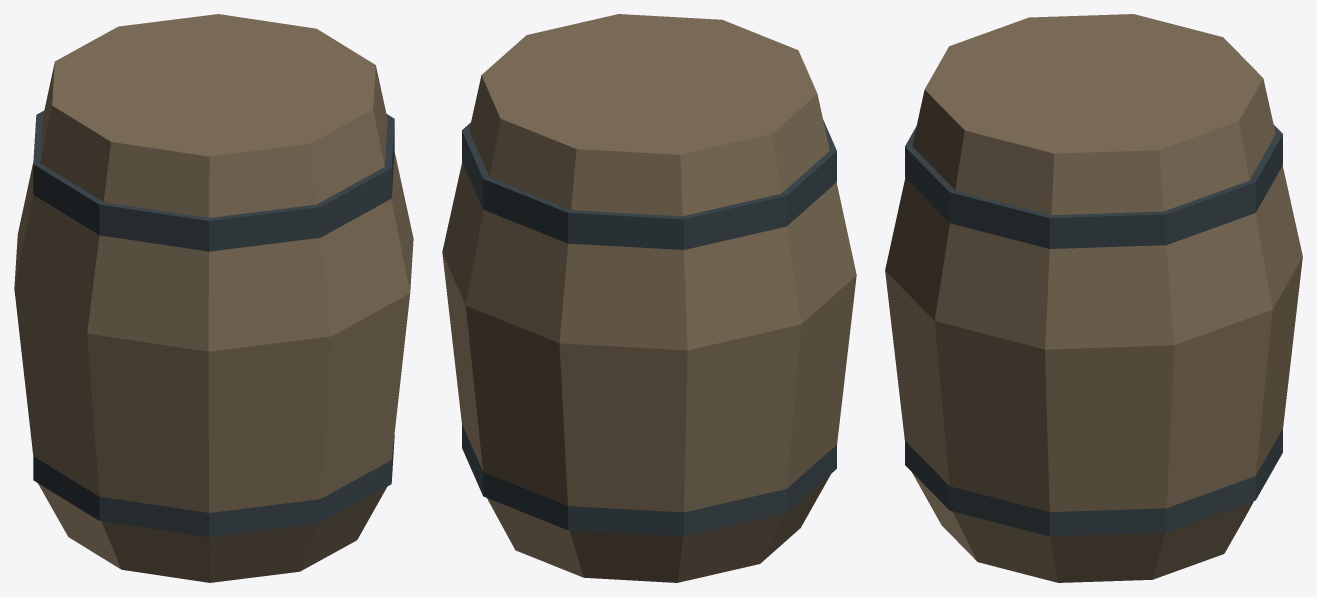
Rendered from PRP_02_Barrel.glb.
3 views of the same model, side by side, from view 1: azimuth 30°, elevation 25°; view 2: azimuth 150°, elevation 25°; view 3: azimuth 270°, elevation 25° (orthographic).
Parts seen in each view (by area): view 1: PRP_02_Barrel; view 2: PRP_02_Barrel; view 3: PRP_02_Barrel.
Boxes of the visible parts, x1,y1,x2,y2 form: PRP_02_Barrel: (14,14,413,582); PRP_02_Barrel: (442,14,856,582); PRP_02_Barrel: (885,14,1302,582).
Bounding box in the file's own units: 0.7196 × 0.85 × 0.7377.
